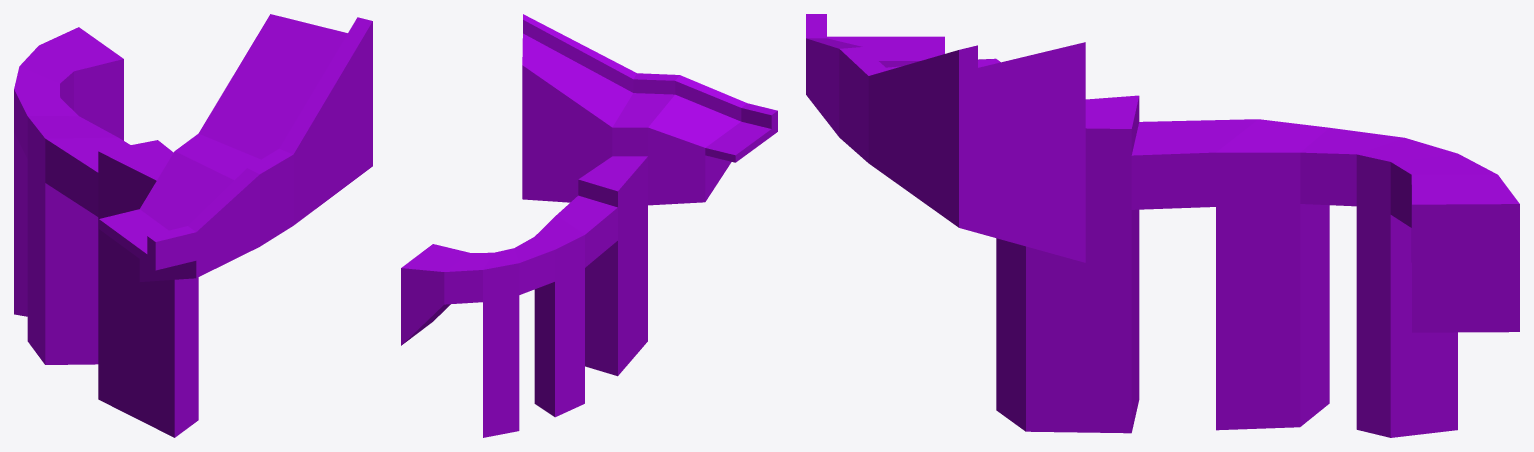
File: Ruina6.fbx
3 renders of one model, left to right at view 1: azimuth 30°, elevation 25°; view 2: azimuth 150°, elevation 25°; view 3: azimuth 270°, elevation 25°, orthographic. The views are drawn at different scales.
Parts seen in each view (by area): view 1: Ruina6; view 2: Ruina6; view 3: Ruina6.
Part boxes in pixels (x1,y1,x2,y2): Ruina6: (14, 14, 372, 437); Ruina6: (401, 14, 777, 437); Ruina6: (806, 14, 1519, 437).
Bounding box in the file's own units: 3316 × 4344 × 5981.
